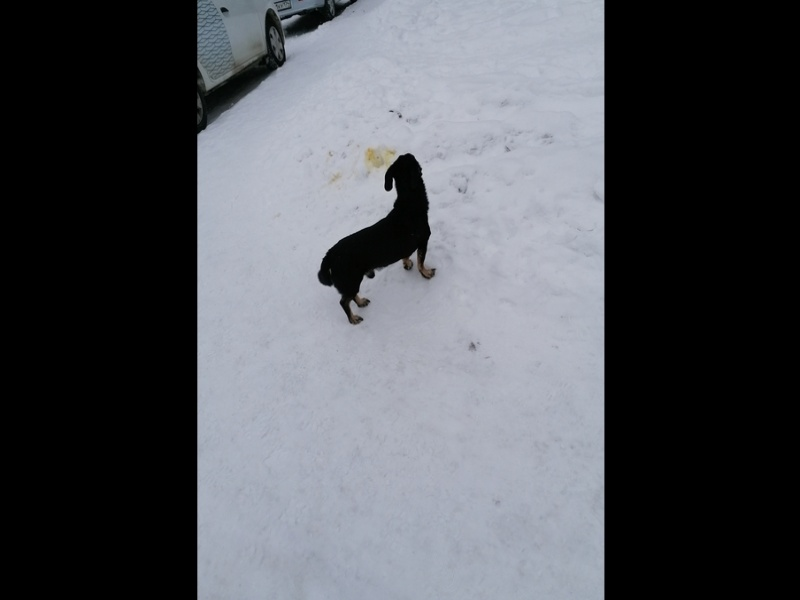dog: (318, 152, 439, 326)
